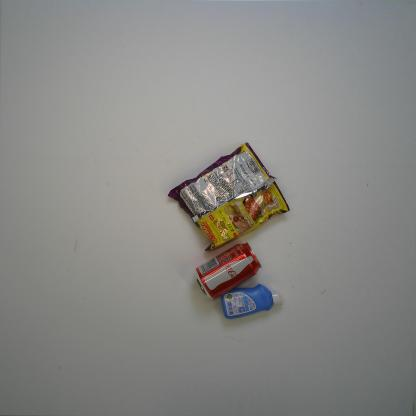Drink: (192, 241, 263, 301)
Instant Noodles: (166, 142, 290, 253)
Personal Hygiene: (219, 283, 280, 320)
